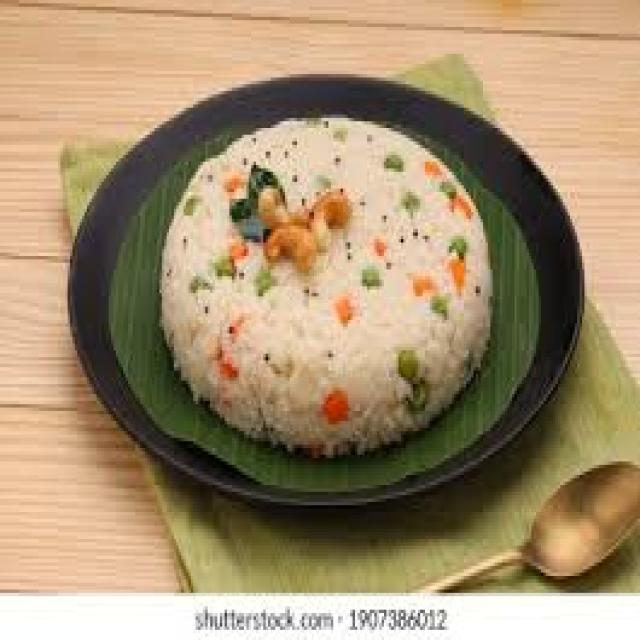UPMA: (155, 115, 490, 455)
